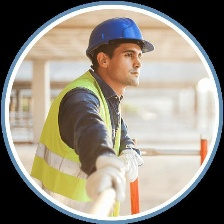helmet: (81, 17, 154, 64)
person: (36, 17, 150, 211)
vest: (34, 66, 130, 201)
